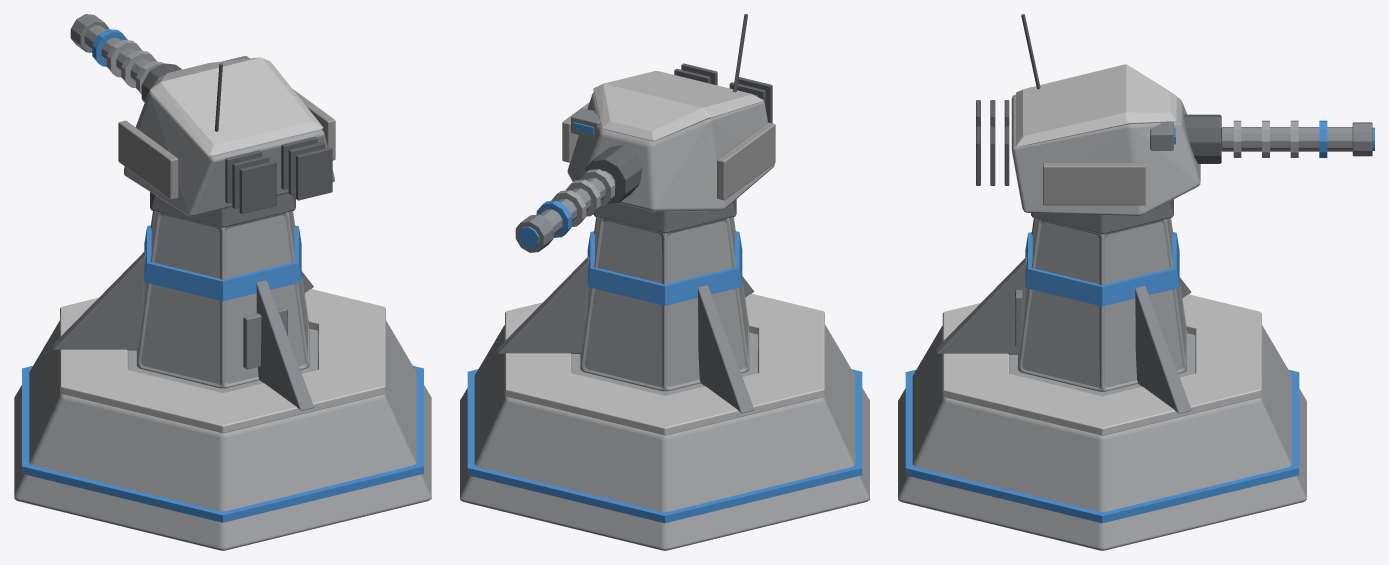
File: lattice_light_turret.glb
The picture shows the model from 3 angles, left to right: view 1: azimuth 30°, elevation 25°; view 2: azimuth 150°, elevation 25°; view 3: azimuth 270°, elevation 25°; orthographic projection. The views are drawn at different scales.
Parts seen in each view (by area): view 1: Body, Turret; view 2: Body, Turret; view 3: Body, Turret.
Boxes of the visible parts, box(x1,y1,x2,y2) form: Body: box(14, 192, 431, 550); Turret: box(70, 14, 335, 216); Body: box(460, 199, 869, 550); Turret: box(515, 14, 775, 252); Body: box(898, 199, 1306, 550); Turret: box(976, 14, 1374, 215).
Size of the model in its own units: 5.92 by 5.81 by 6.
